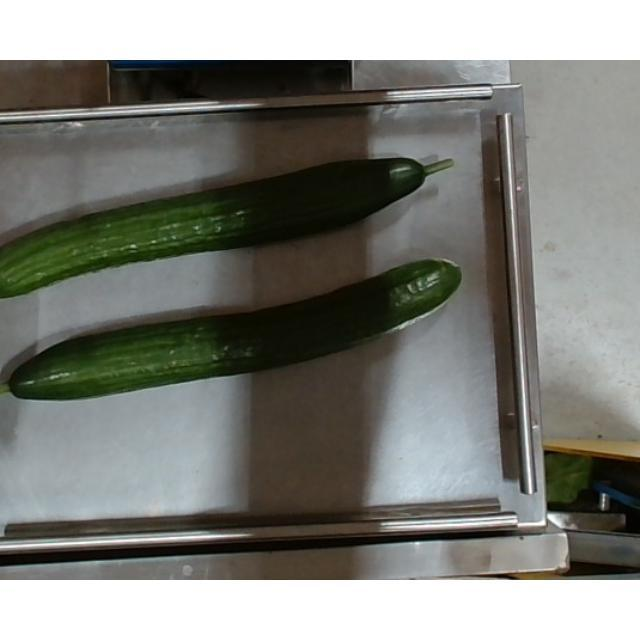cucumber: (0, 136, 478, 294), (4, 257, 468, 403)
